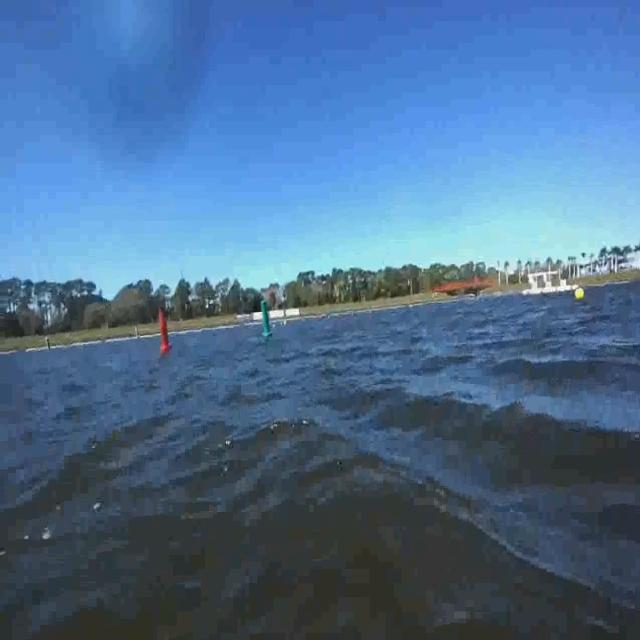green-column-buoy: (256, 294, 276, 341)
red-column-buoy: (152, 306, 174, 354)
